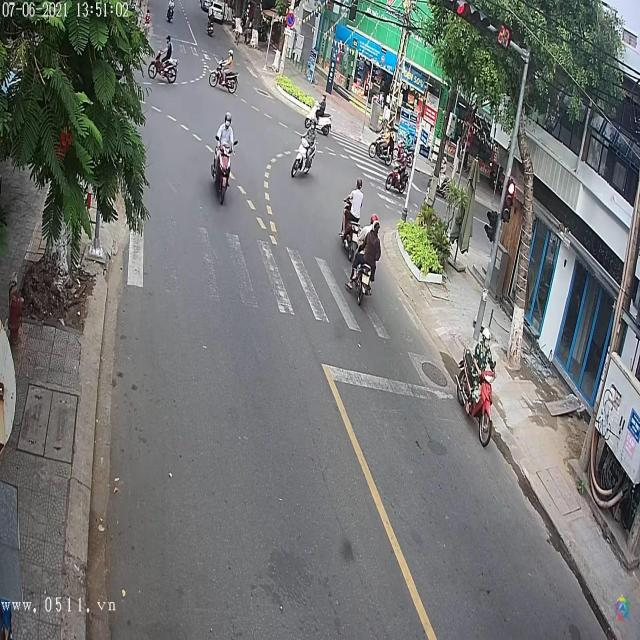motorcycle: (454, 343, 495, 448), (351, 231, 378, 309), (210, 134, 234, 202), (208, 51, 240, 96), (148, 41, 178, 86), (290, 138, 316, 180), (306, 102, 332, 140), (386, 159, 410, 198)
